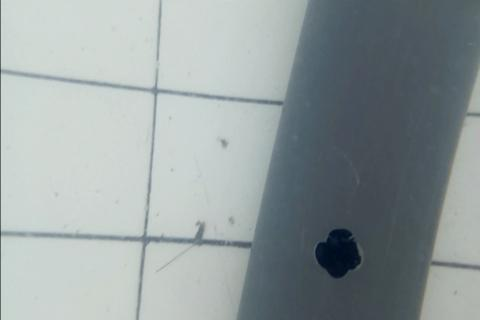kebocoran: (311, 224, 364, 279)
